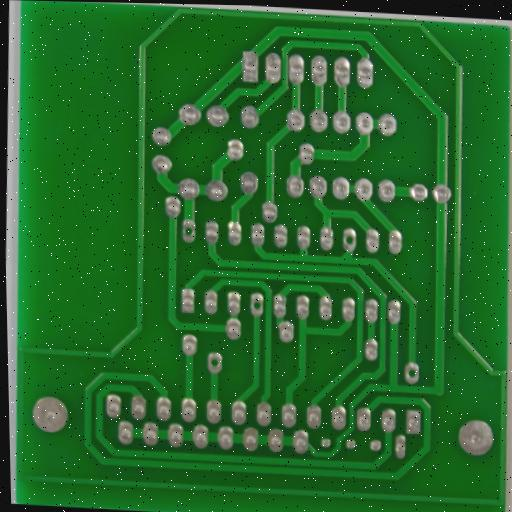missing_hole: (401, 363, 422, 383), (180, 220, 197, 240), (341, 230, 357, 249), (206, 354, 222, 371), (249, 297, 264, 314)
